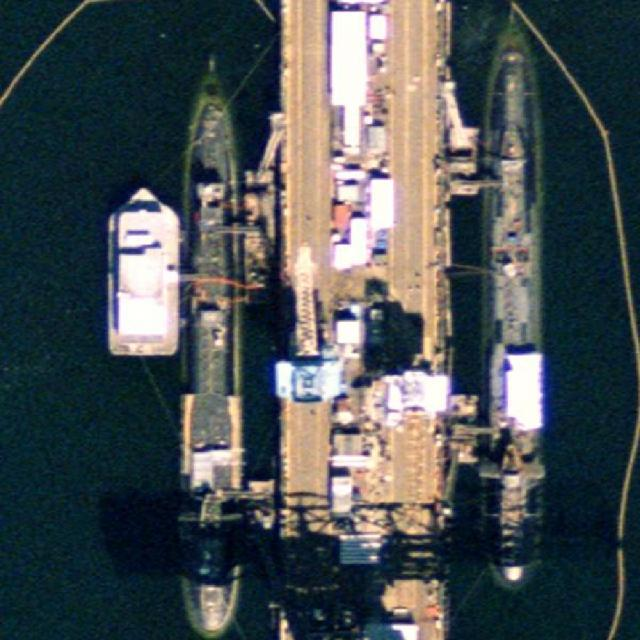Other Ship: (108, 187, 180, 358)
Submarine: (477, 10, 540, 601), (182, 48, 244, 640)
